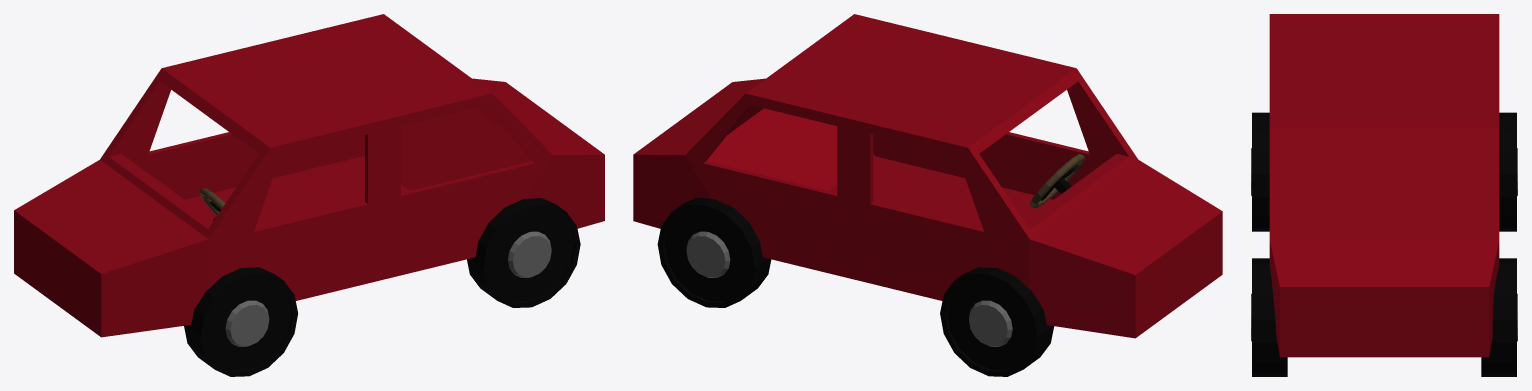
File: mod_vehicle_CarTest.fbx
3 renders of one model, left to right at view 1: azimuth 30°, elevation 25°; view 2: azimuth 150°, elevation 25°; view 3: azimuth 270°, elevation 25°, orthographic. The views are drawn at different scales.
Parts seen in each view (by area): view 1: mesh_obj_veh_CarMain, mesh_obj_veh_Frontwheel_L, mesh_obj_veh_BackWheel_L; view 2: mesh_obj_veh_CarMain, mesh_obj_veh_Frontwheel_R, mesh_obj_veh_BackWheel_R, mesh_obj_veh_SteeringWheel; view 3: mesh_obj_veh_CarMain, mesh_obj_veh_BackWheel_R, mesh_obj_veh_BackWheel_L, mesh_obj_veh_Frontwheel_L, mesh_obj_veh_Frontwheel_R.
Part boxes in pixels (x1,y1,x2,y2): mesh_obj_veh_CarMain: (14, 14, 604, 337); mesh_obj_veh_Frontwheel_L: (184, 267, 298, 376); mesh_obj_veh_BackWheel_L: (467, 198, 580, 307); mesh_obj_veh_CarMain: (633, 14, 1222, 338); mesh_obj_veh_Frontwheel_R: (940, 267, 1054, 376); mesh_obj_veh_BackWheel_R: (657, 197, 771, 307); mesh_obj_veh_SteeringWheel: (1030, 154, 1085, 208); mesh_obj_veh_CarMain: (1269, 14, 1499, 357); mesh_obj_veh_BackWheel_R: (1481, 258, 1517, 376); mesh_obj_veh_BackWheel_L: (1251, 258, 1287, 376); mesh_obj_veh_Frontwheel_L: (1251, 112, 1269, 231); mesh_obj_veh_Frontwheel_R: (1499, 112, 1517, 231).
Size of the model in its own units: 528 by 218 by 233.
